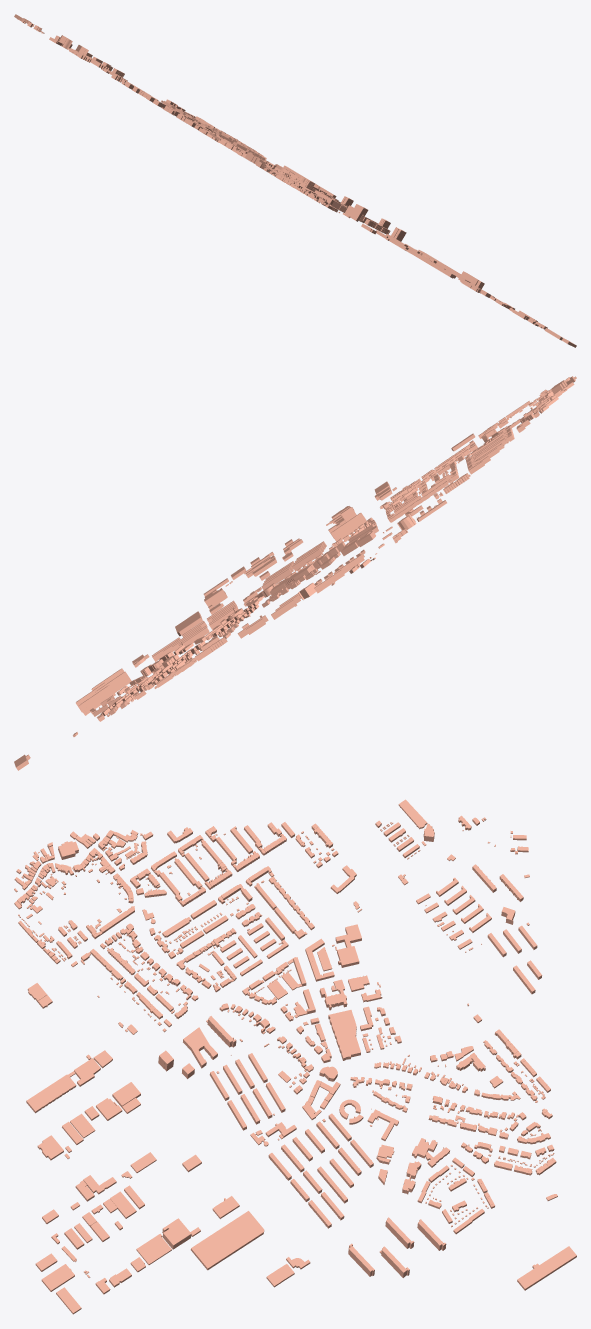
3 renders of one model, top to bottom at view 1: azimuth 30°, elevation 25°; view 2: azimuth 150°, elevation 25°; view 3: azimuth 270°, elevation 25°, orthographic. The views are drawn at different scales.
Size of the model in its own units: 1097 by 810 by 1305.
